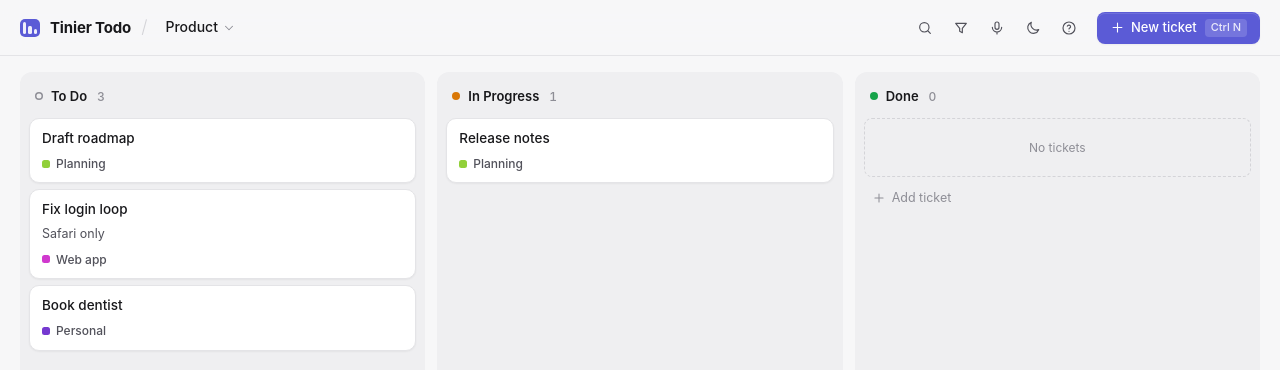
Scenario: App › switches boards with Ctrl+2 and resets filters
Expected: the text "Draft roadmap" is shown, 42,130 -> 135,146
Click the button "Planning" below "Draft roadmap" at (74, 164), box 42,155 -> 106,172
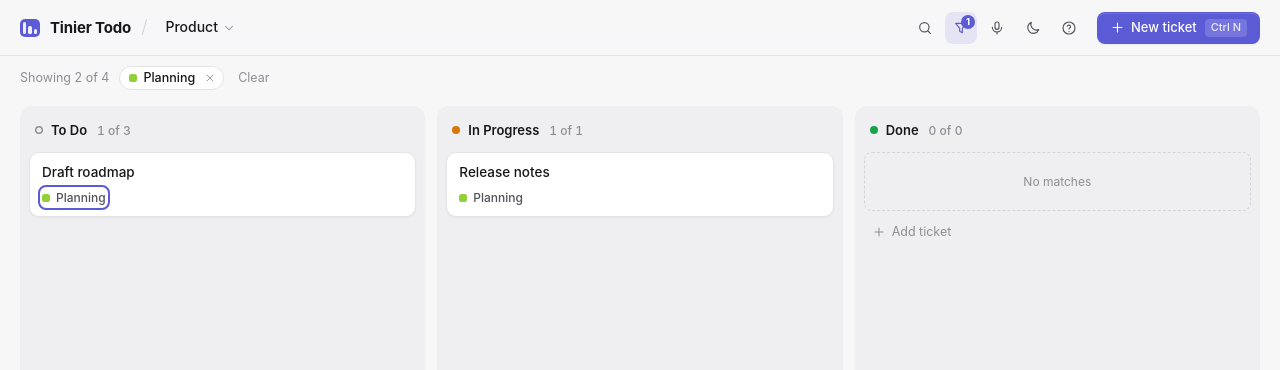
Press 2
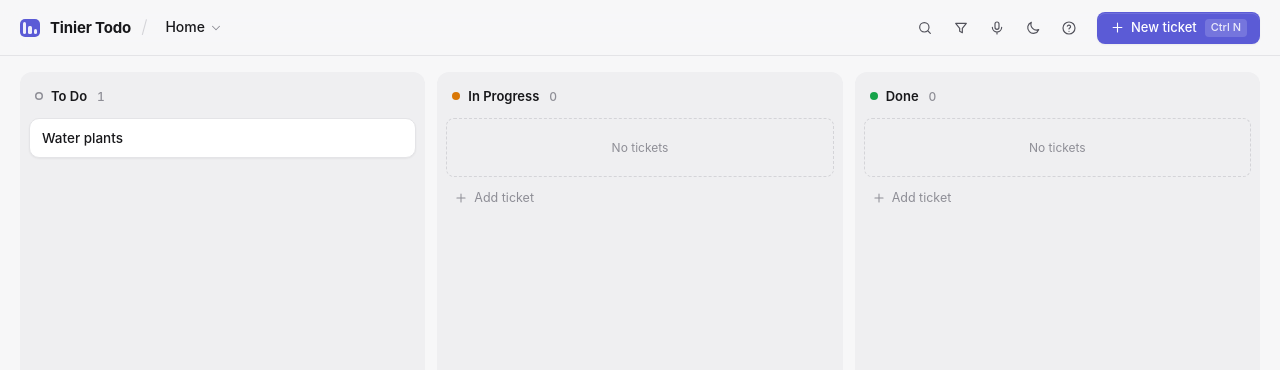
Now the text "Water plants" is shown, box 42,130 -> 123,146
Now the text "Showing" is gone
